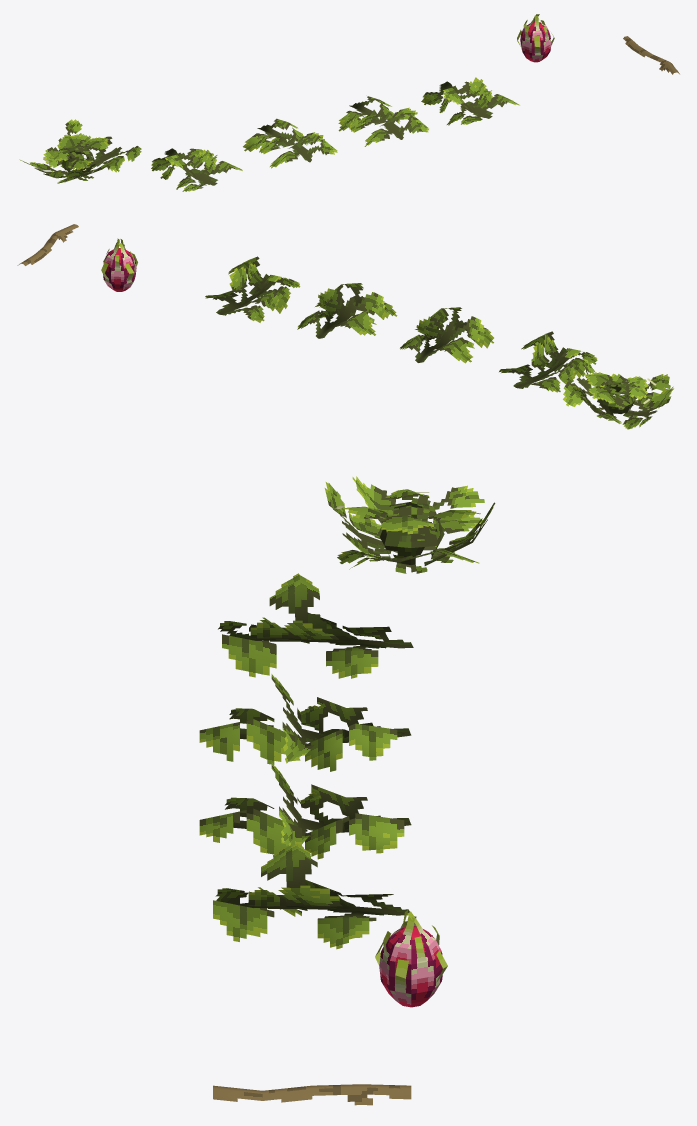
File: SamplePlants.fbx
3 renders of one model, top to bottom at view 1: azimuth 30°, elevation 25°; view 2: azimuth 150°, elevation 25°; view 3: azimuth 270°, elevation 25°, orthographic. The views are drawn at different scales.
Parts seen in each view (by area): view 1: sample_plant_root, sample_branch_004, sample_branch_003, sample_branch.002, sample_branch.001, sample_fruit, sample_branch_alt; view 2: sample_plant_root, sample_branch_004, sample_branch.002, sample_branch_003, sample_branch.001, sample_fruit, sample_branch_alt; view 3: sample_plant_root, sample_branch_004, sample_branch_003, sample_branch.002, sample_branch.001, sample_fruit, sample_branch_alt.
Part boxes in pixels (x1=…): sample_plant_root: x1=19, y1=119, x2=141, y2=183; sample_branch_004: x1=338, y1=96, x2=428, y2=146; sample_branch_003: x1=421, y1=77, x2=519, y2=125; sample_branch.002: x1=243, y1=118, x2=337, y2=168; sample_branch.001: x1=151, y1=148, x2=242, y2=191; sample_fruit: x1=517, y1=14, x2=554, y2=62; sample_branch_alt: x1=623, y1=36, x2=679, y2=74; sample_plant_root: x1=563, y1=358, x2=673, y2=429; sample_branch_004: x1=297, y1=283, x2=397, y2=338; sample_branch.002: x1=400, y1=307, x2=493, y2=363; sample_branch_003: x1=205, y1=256, x2=300, y2=322; sample_branch.001: x1=499, y1=331, x2=597, y2=392; sample_fruit: x1=101, y1=238, x2=137, y2=291; sample_branch_alt: x1=17, y1=224, x2=78, y2=265; sample_plant_root: x1=324, y1=476, x2=495, y2=573; sample_branch_004: x1=199, y1=762, x2=411, y2=859; sample_branch_003: x1=213, y1=843, x2=409, y2=949; sample_branch.002: x1=199, y1=674, x2=411, y2=771; sample_branch.001: x1=218, y1=573, x2=413, y2=678; sample_fruit: x1=375, y1=909, x2=447, y2=1007; sample_branch_alt: x1=213, y1=1084, x2=411, y2=1105.
Bounding box in the file's own units: 6.64 × 0.6936 × 1.41.
